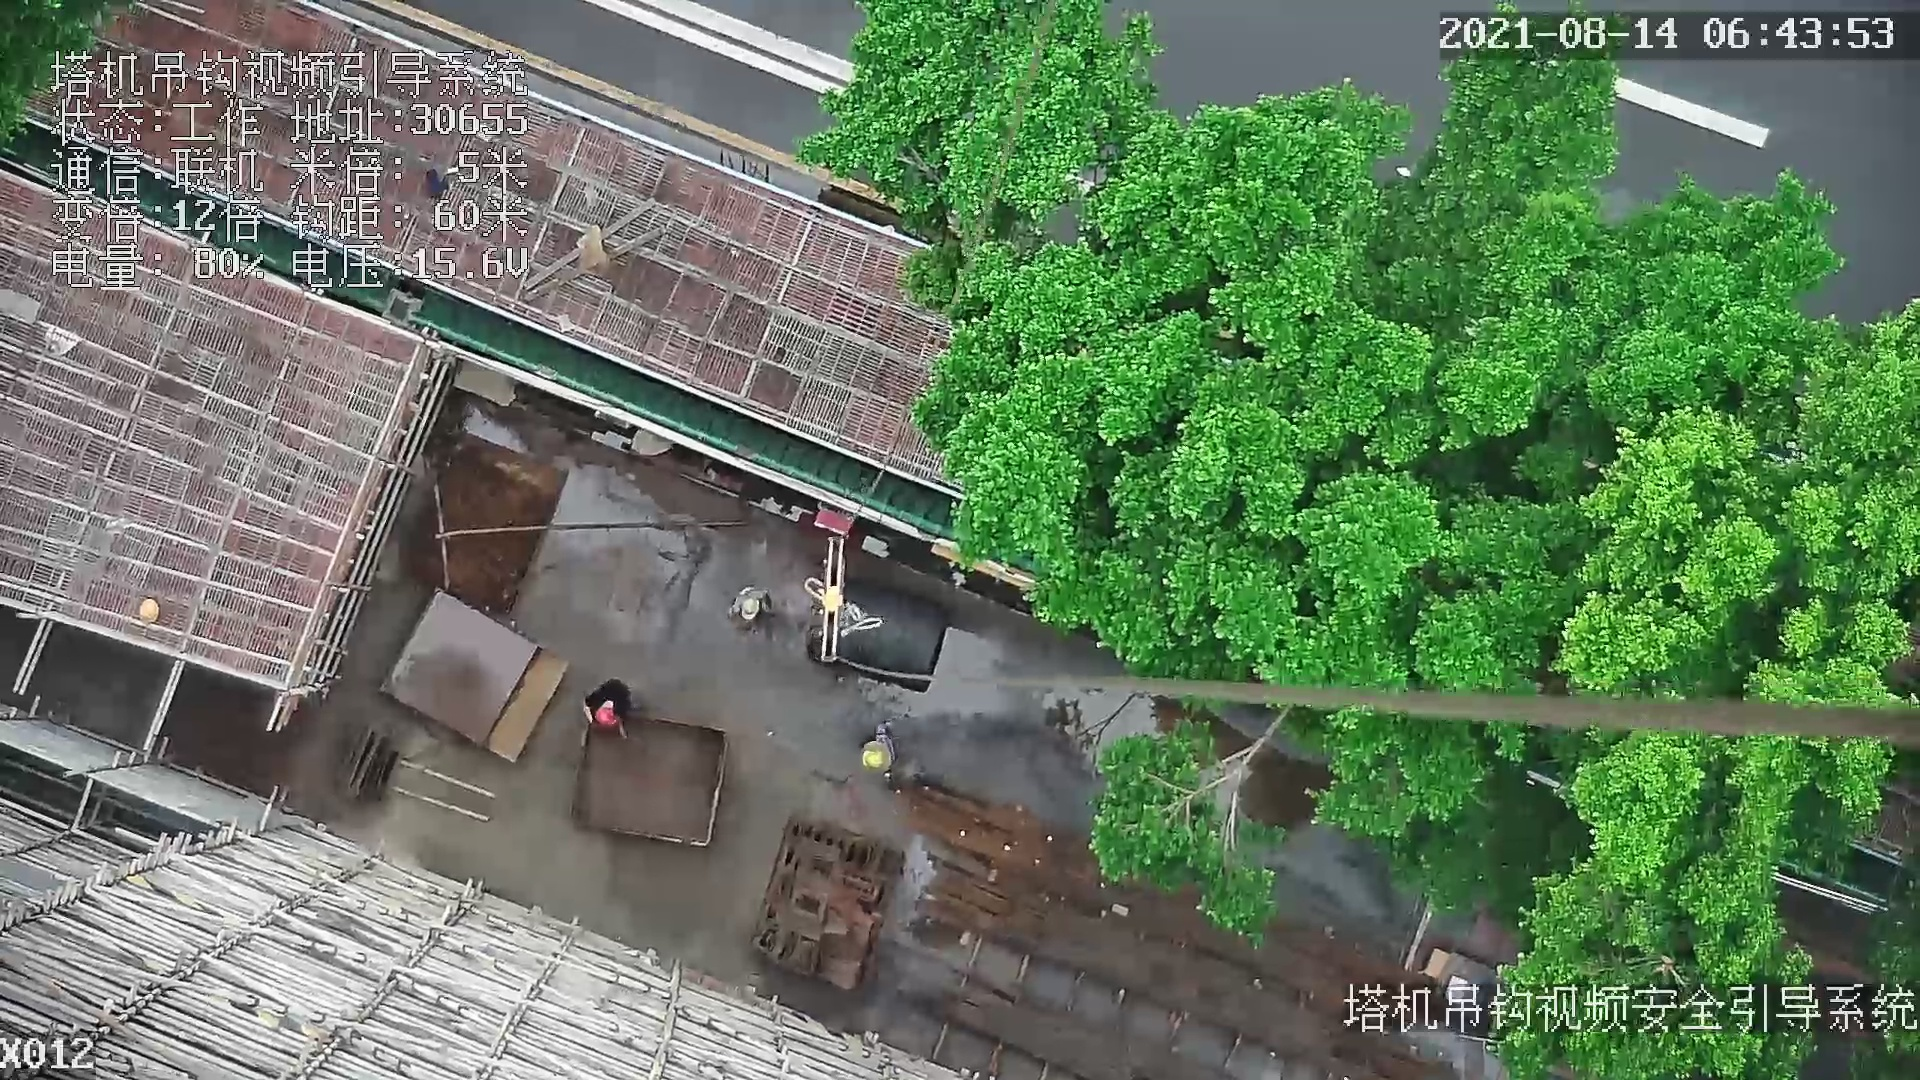helmet: (595, 706, 621, 727), (133, 600, 160, 620), (863, 749, 885, 772), (741, 600, 758, 620)
person: (576, 674, 642, 736), (723, 580, 780, 639), (858, 715, 899, 783)
